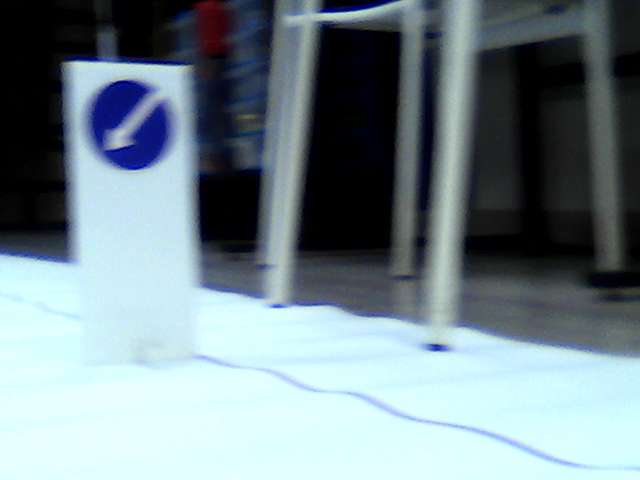prep: (84, 76, 178, 173)
